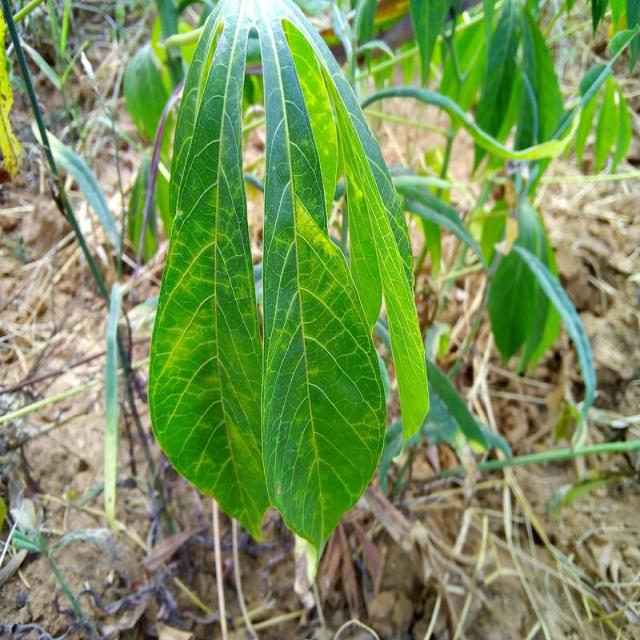cassava leaf: (147, 0, 431, 579)
